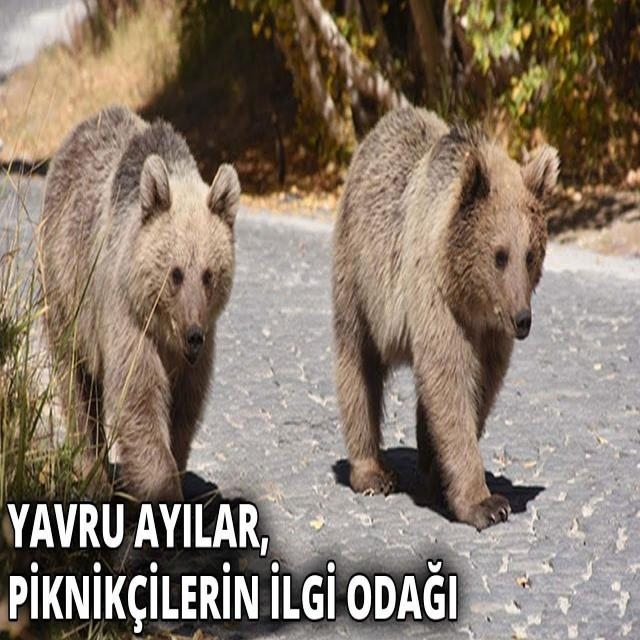Bear: (330, 104, 570, 533), (34, 107, 242, 507)
